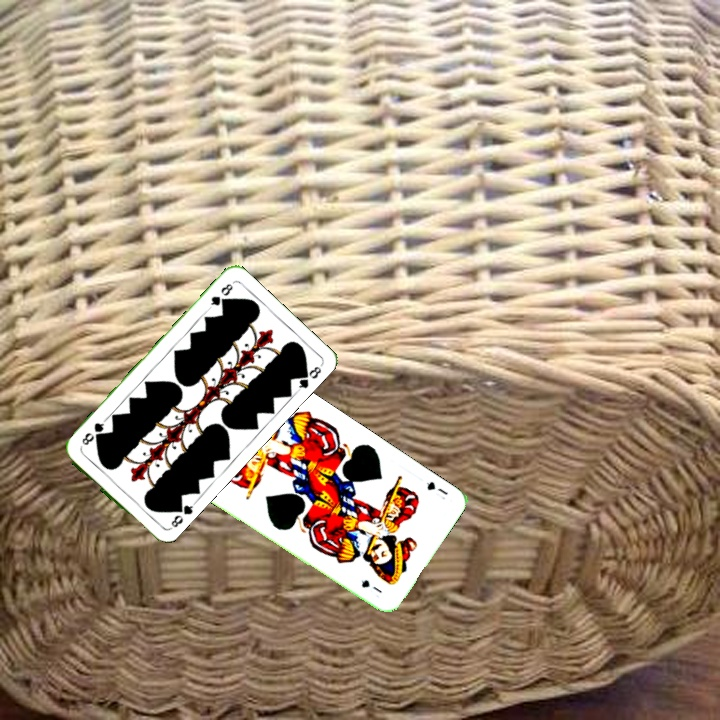G8: (165, 499, 197, 533), (205, 279, 236, 311)
GU: (422, 477, 451, 502)
